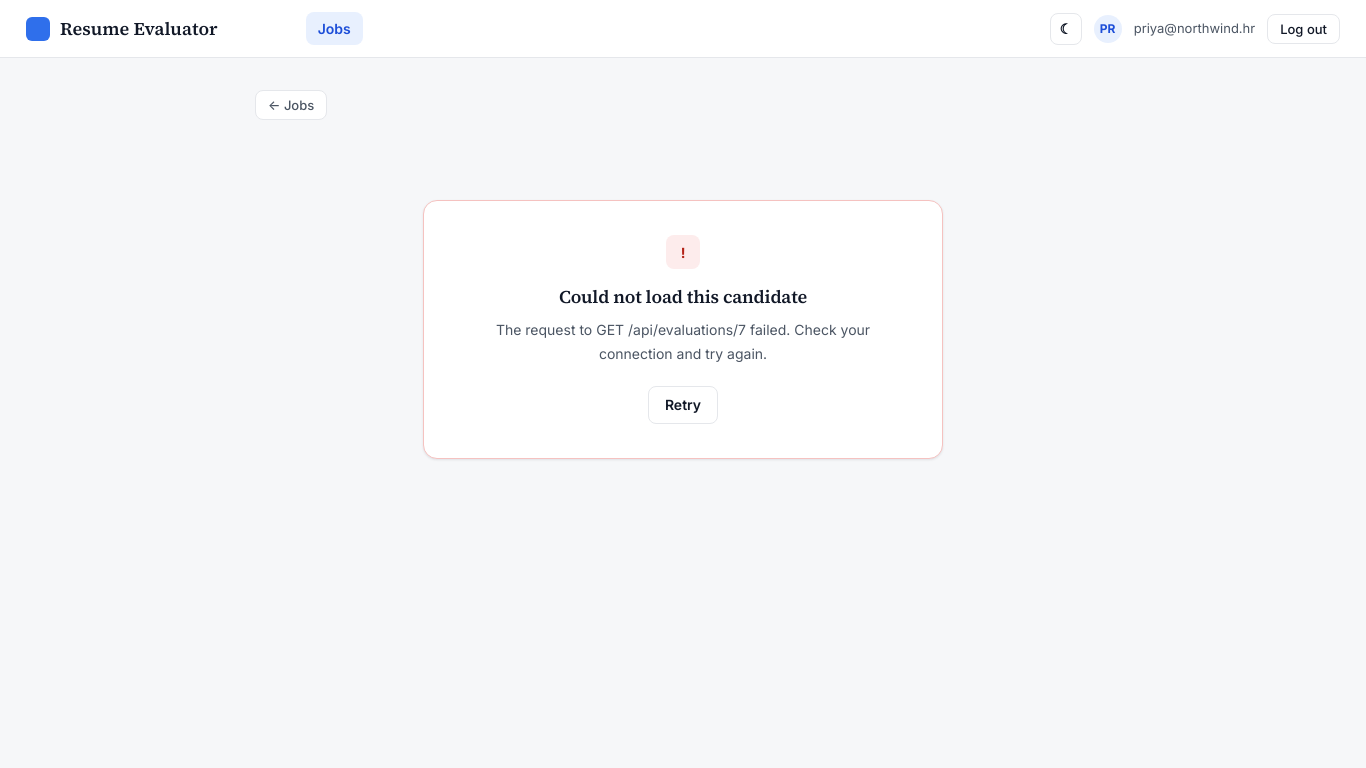
Phase 6 - Candidate Detail › server error: message and Retry
The image size is (1366, 768).
Expected: the heading "Could not load this candidate" is shown, [559,284,807,309]
Click the button "Retry".
click(683, 405)  # box [648,386,718,424]
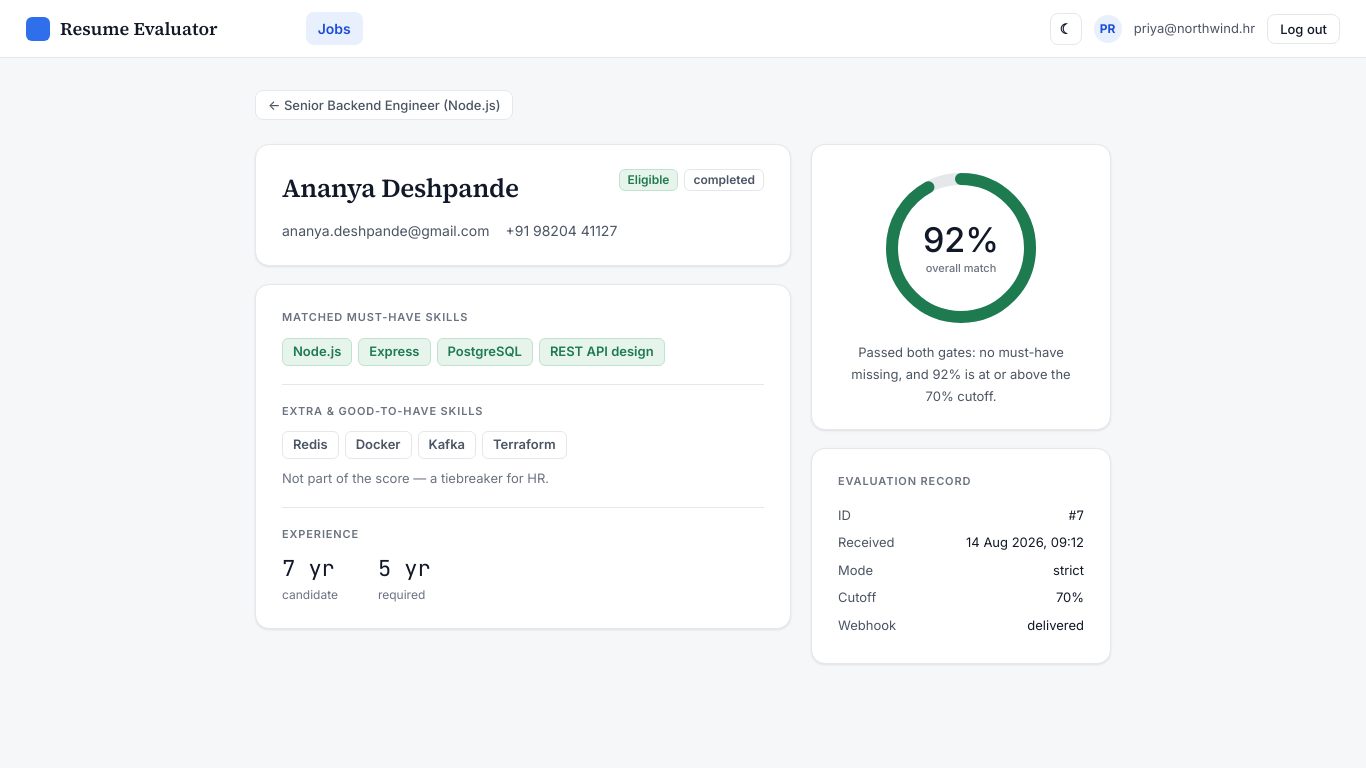
Result: the heading "Ananya Deshpande" is shown at [282,169,519,208]
